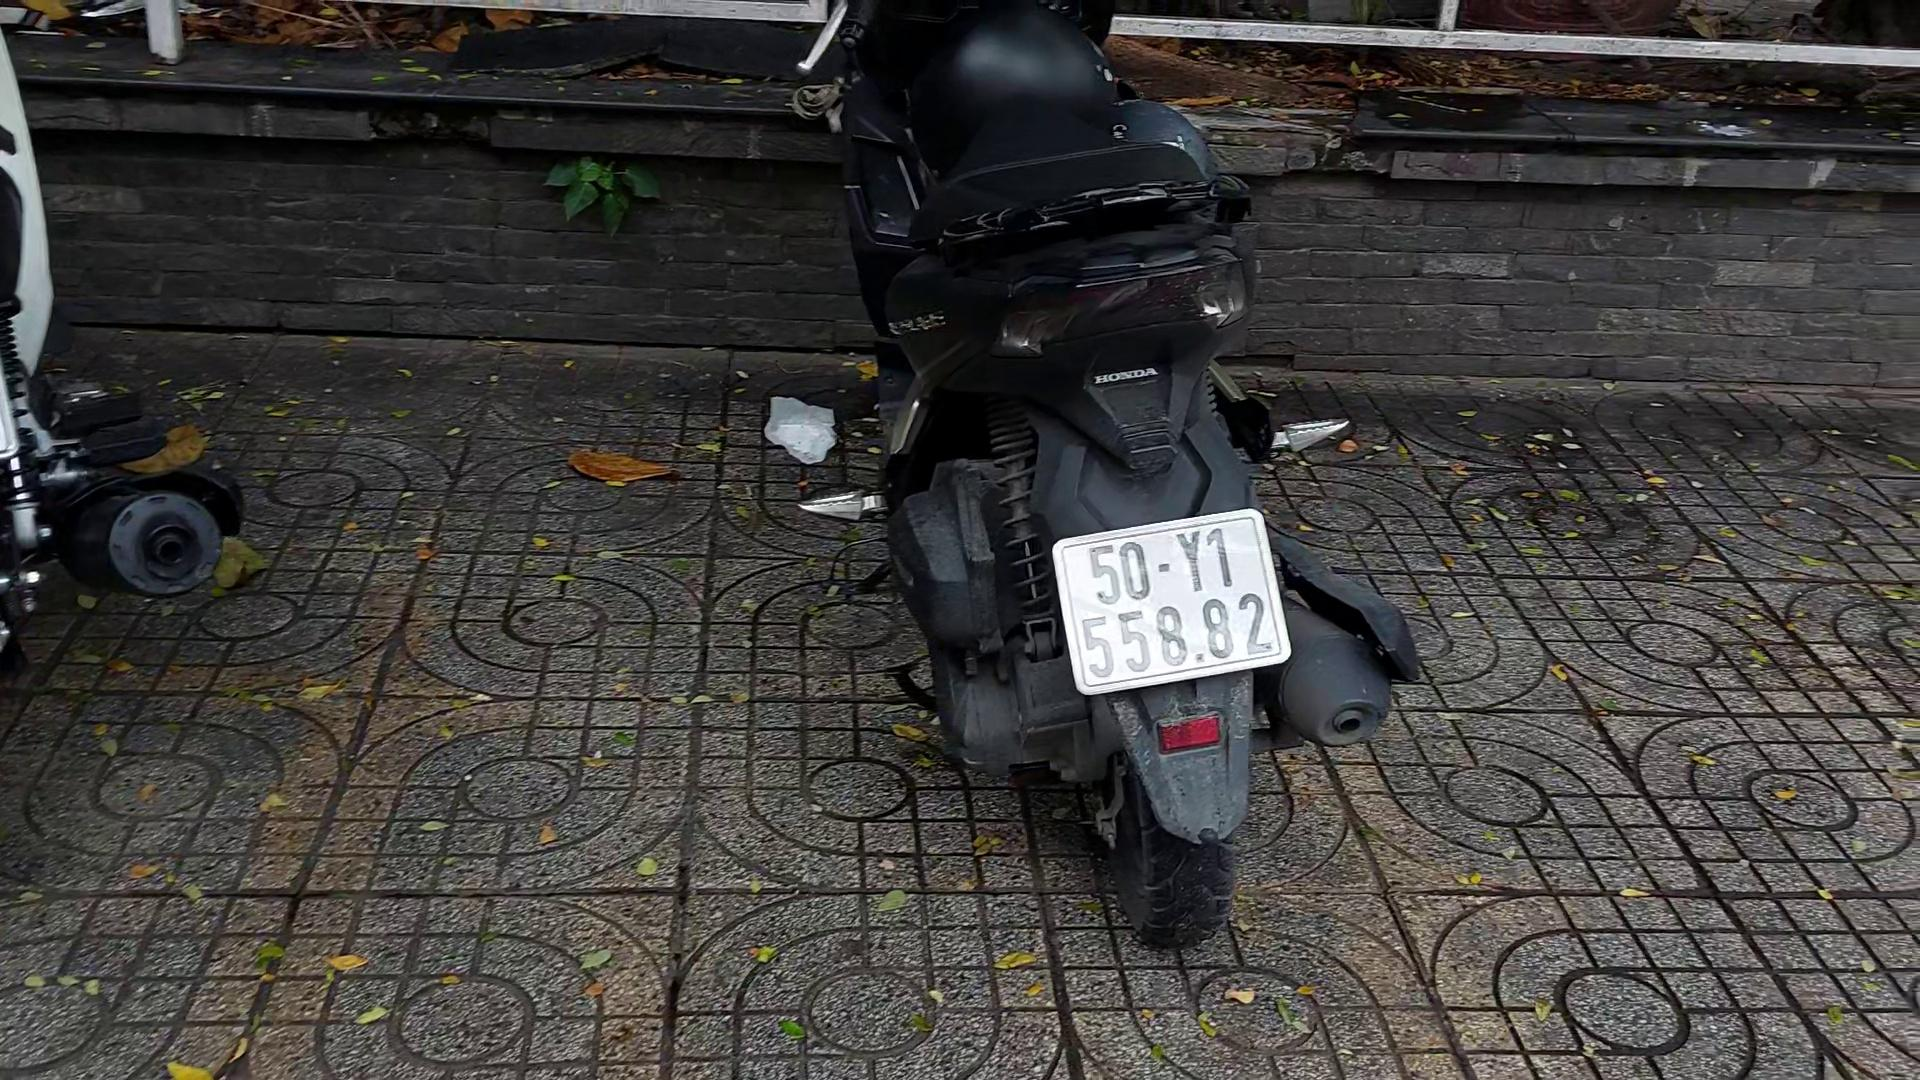numplate: (1050, 500, 1307, 710)
